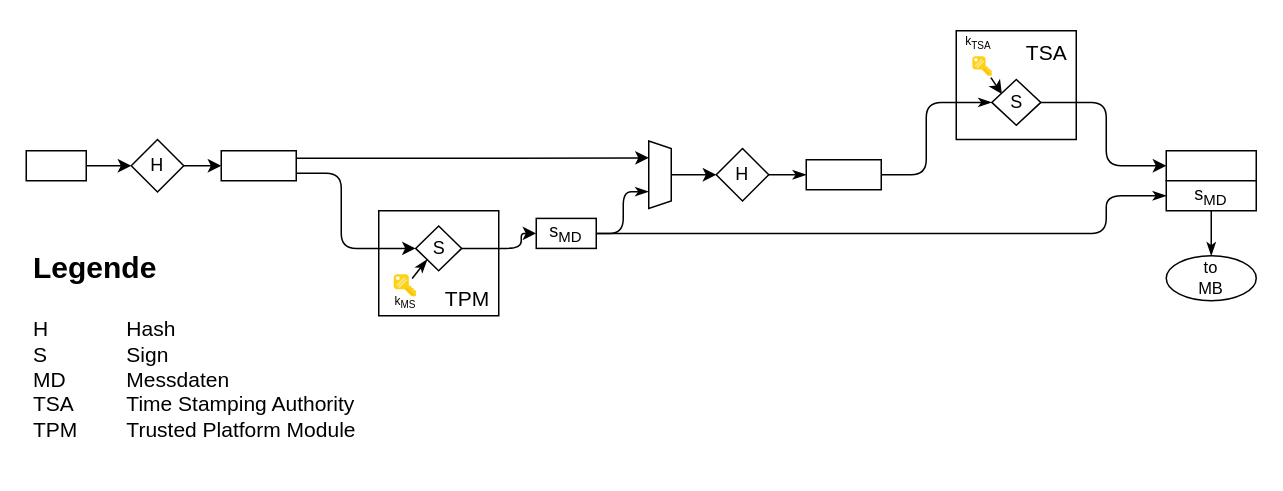
The diagram is 1283 pixels wide and 491 high, and some of its shapes have lost their labels. The shapes that lost their labels are listed below. From the top down, each one's centre as x and y in pixels, then its label:
At point 55,165: "MD".
At point 258,165: "h MD".
At point 659,174: "concat".
At point 843,174: "h MSD".
At point 1210,165: "s MSD".
